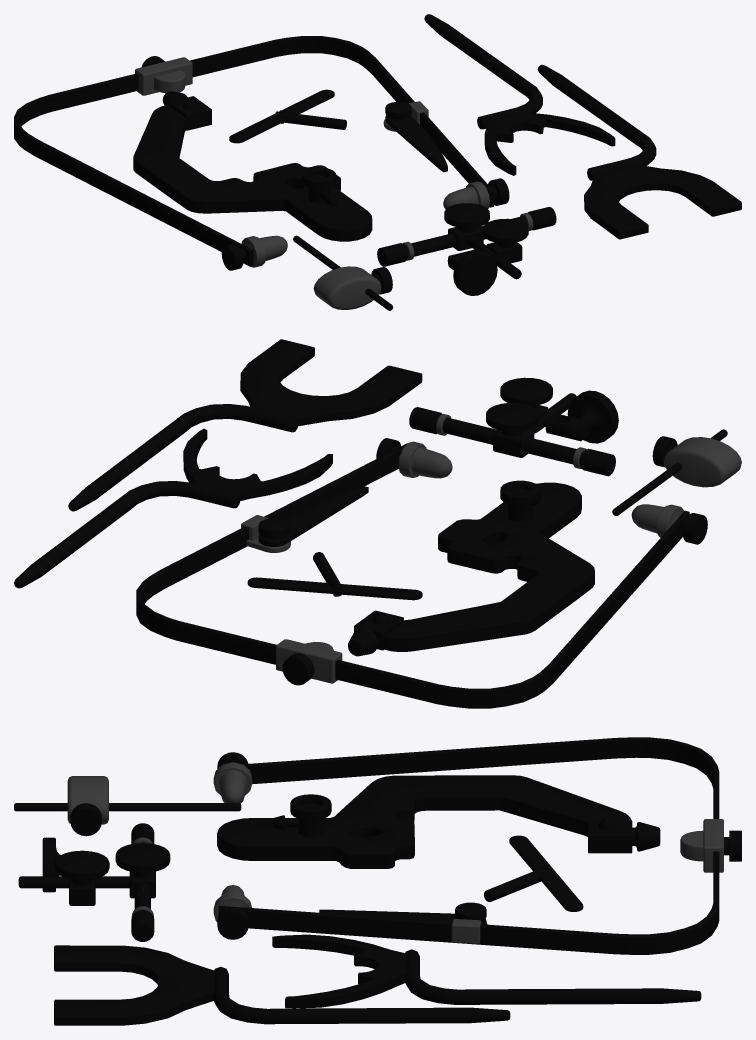
The model's file is Facebow01.fbx.
The picture shows the model from 3 angles, top to bottom: view 1: azimuth 30°, elevation 25°; view 2: azimuth 150°, elevation 25°; view 3: azimuth 270°, elevation 25°; orthographic projection. The views are drawn at different scales.
Visible parts, largest first — view 1: Facebow036, Facebow018, Facebow030, Facebow01, Facebow016, Facebow017, Facebow022, Facebow010, Facebow032, Facebow012, Facebow05, Facebow027 (+10 smaller); view 2: Facebow018, Facebow036, Facebow030, Facebow016, Facebow017, Facebow010, Facebow01, Facebow022, Facebow027, Facebow012, Facebow05, Facebow032 (+11 smaller); view 3: Facebow036, Facebow018, Facebow030, Facebow016, Facebow017, Facebow01, Facebow021, Facebow010, Facebow012, Facebow027, Facebow029, Facebow031 (+17 smaller).
Boxes of the visible parts, left/top/right/bottom form: Facebow036: left=14, top=36, right=493, bottom=266; Facebow018: left=133, top=105, right=372, bottom=241; Facebow030: left=584, top=163, right=741, bottom=239; Facebow01: left=484, top=111, right=615, bottom=175; Facebow016: left=537, top=64, right=656, bottom=180; Facebow017: left=424, top=14, right=542, bottom=129; Facebow022: left=313, top=266, right=381, bottom=309; Facebow010: left=377, top=207, right=556, bottom=266; Facebow032: left=453, top=250, right=497, bottom=295; Facebow012: left=221, top=235, right=287, bottom=270; Facebow05: left=385, top=115, right=447, bottom=172; Facebow027: left=229, top=89, right=334, bottom=143; Facebow018: left=383, top=482, right=594, bottom=651; Facebow036: left=136, top=443, right=689, bottom=708; Facebow030: left=240, top=339, right=422, bottom=426; Facebow016: left=68, top=404, right=298, bottom=511; Facebow017: left=14, top=481, right=240, bottom=588; Facebow010: left=409, top=407, right=615, bottom=476; Facebow01: left=183, top=428, right=332, bottom=500; Facebow022: left=663, top=437, right=741, bottom=487; Facebow027: left=247, top=577, right=422, bottom=600; Facebow012: left=631, top=504, right=707, bottom=544; Facebow05: left=258, top=486, right=368, bottom=546; Facebow032: left=567, top=390, right=618, bottom=443; Facebow036: left=218, top=737, right=719, bottom=954; Facebow018: left=217, top=775, right=631, bottom=868; Facebow030: left=54, top=945, right=214, bottom=1025; Facebow016: left=213, top=966, right=510, bottom=1024; Facebow017: left=404, top=949, right=701, bottom=1004; Facebow01: left=272, top=934, right=406, bottom=1008; Facebow021: left=14, top=803, right=241, bottom=811; Facebow010: left=131, top=823, right=154, bottom=941; Facebow012: left=213, top=752, right=252, bottom=803; Facebow027: left=509, top=835, right=583, bottom=911; Facebow029: left=115, top=843, right=170, bottom=877; Facebow031: left=54, top=850, right=109, bottom=885.
Bounding box in the file's own units: 31.52 × 3.21 × 35.25.
Materials: 1 (1 with a texture image).
